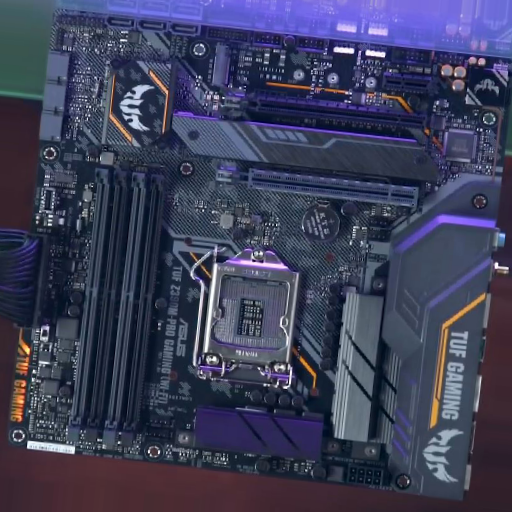CPU: (207, 247, 299, 387)
GPU: (216, 158, 418, 208), (219, 87, 428, 131)
MOTHERBOARD: (19, 8, 510, 487)
RAM: (66, 166, 168, 446)
SSD: (211, 42, 233, 88)
